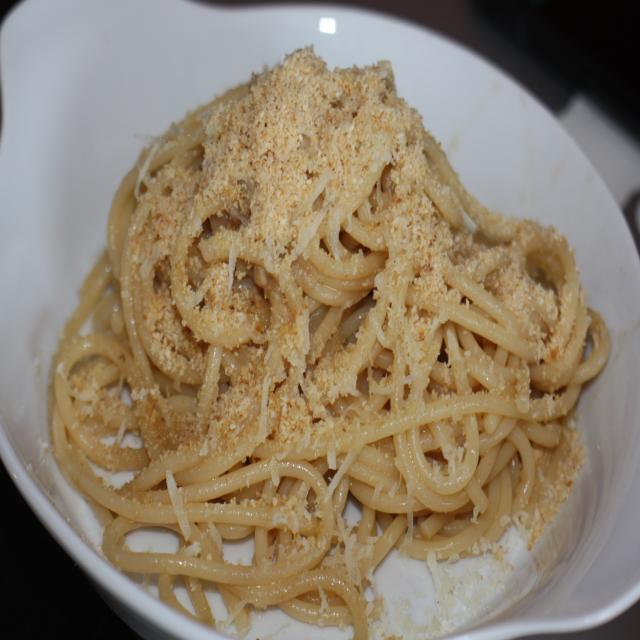Oil pasta: (65, 29, 623, 627)
